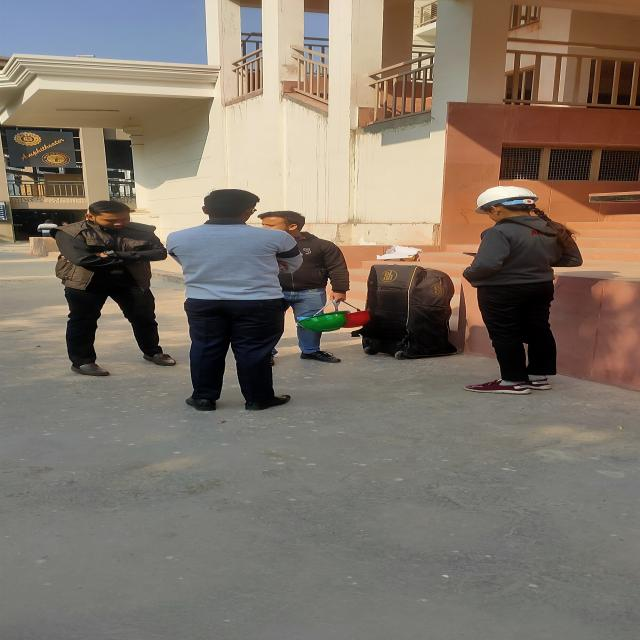no jacket: (454, 185, 588, 393)
unsafe: (165, 188, 289, 410), (59, 200, 183, 374), (261, 211, 379, 363)
